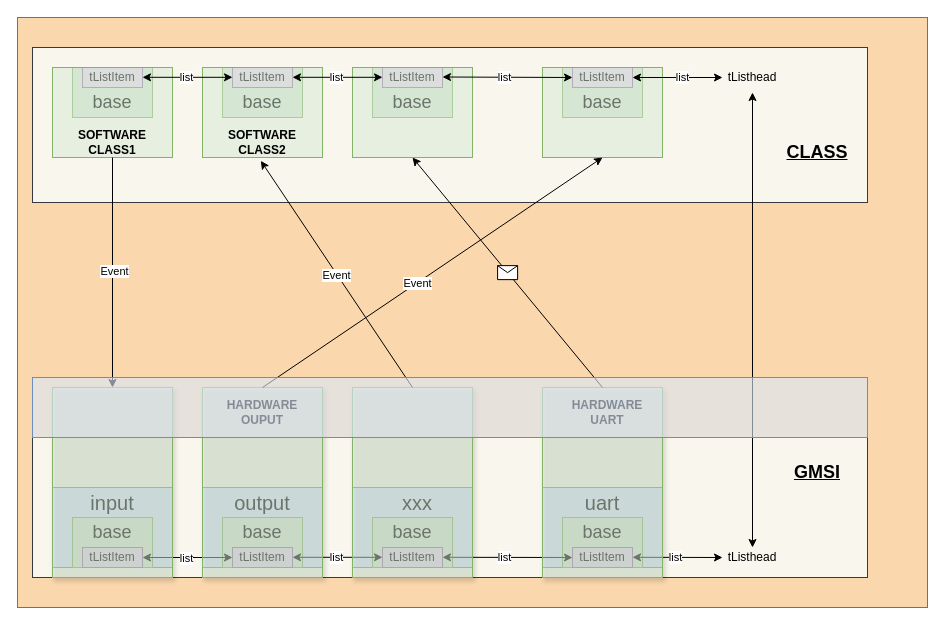
This 945x625 diagram has some shape labels left out. Each missing label, with the centre of its shape:
"HARDWARE SIGNAL" belongs at [113,483].
"HARDWARE XXX" belongs at [413,483].
"peripheral" belongs at [450,407].
"SOFTWARE CLASS3" belongs at [412,112].
"SOFTWARE CLASS4" belongs at [602,112].
